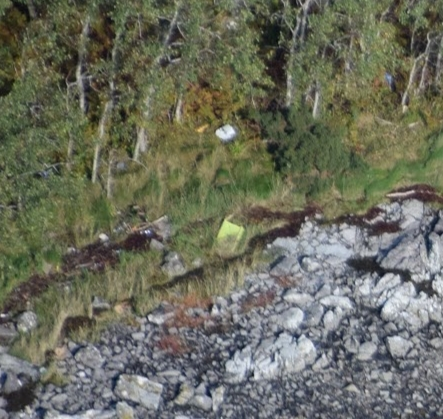scattered_barrel: (183, 117, 262, 262)
